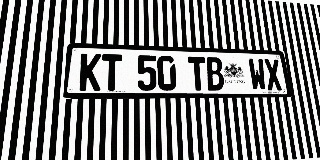0: (157, 56, 176, 91)
5: (138, 55, 157, 91)
B: (205, 57, 225, 91)
K: (79, 53, 102, 91)
T: (101, 54, 122, 91), (188, 56, 207, 91)
W: (248, 58, 267, 90)
X: (263, 59, 283, 90)
